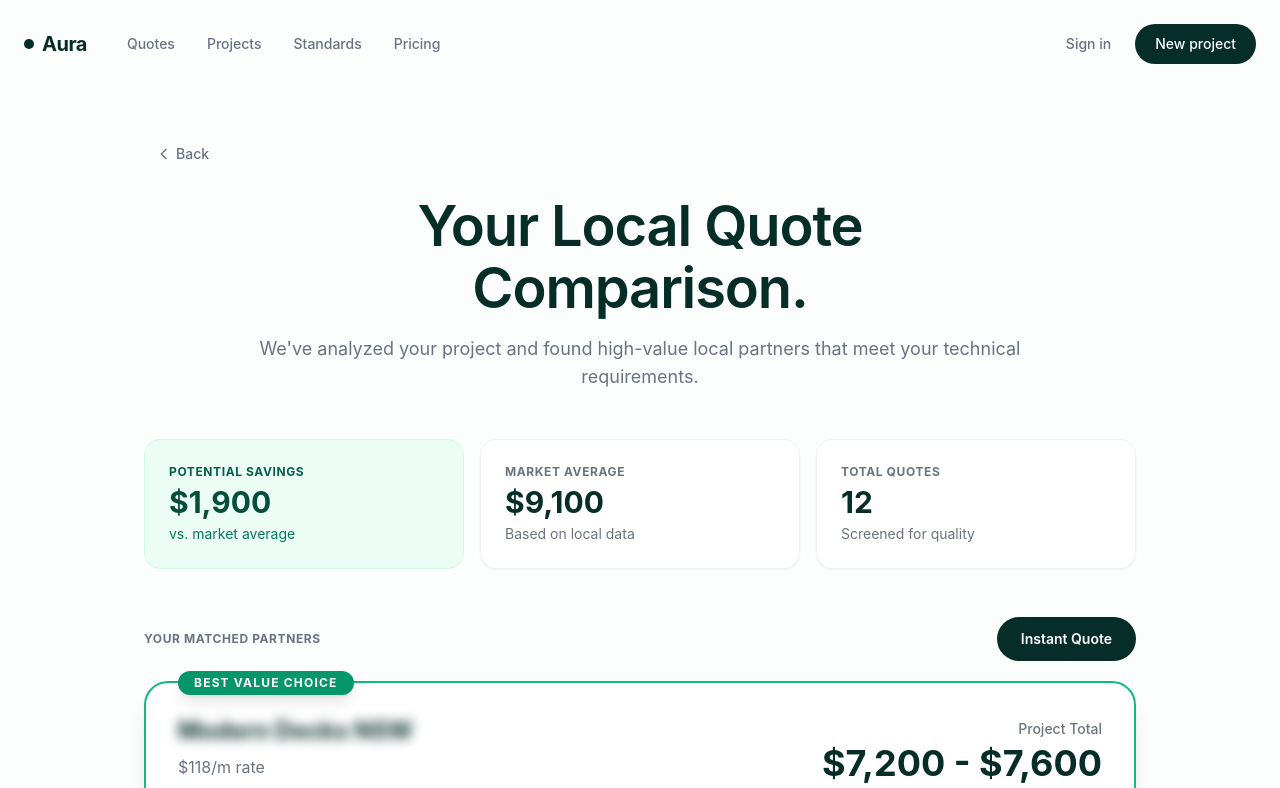
QuoteComparisonPage › opens the instant quote dialog with the names revealed, and cancelling returns to the page intact
Click the button "Instant Quote" at (1066, 639), box [997,617,1136,661]
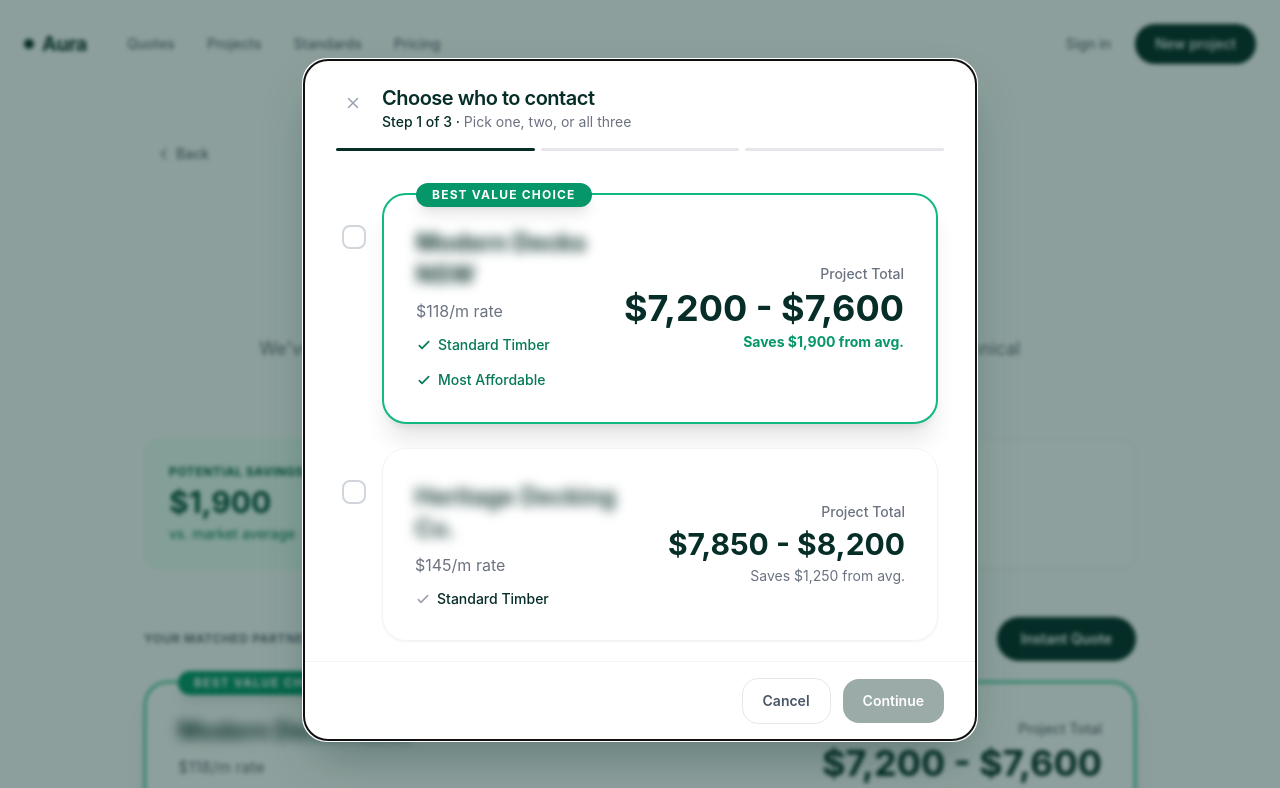
Expected: the text "Modern Decks NSW" is shown, [416,227,600,291]
Click the button "Cancel" at (786, 701), box [742,678,830,724]
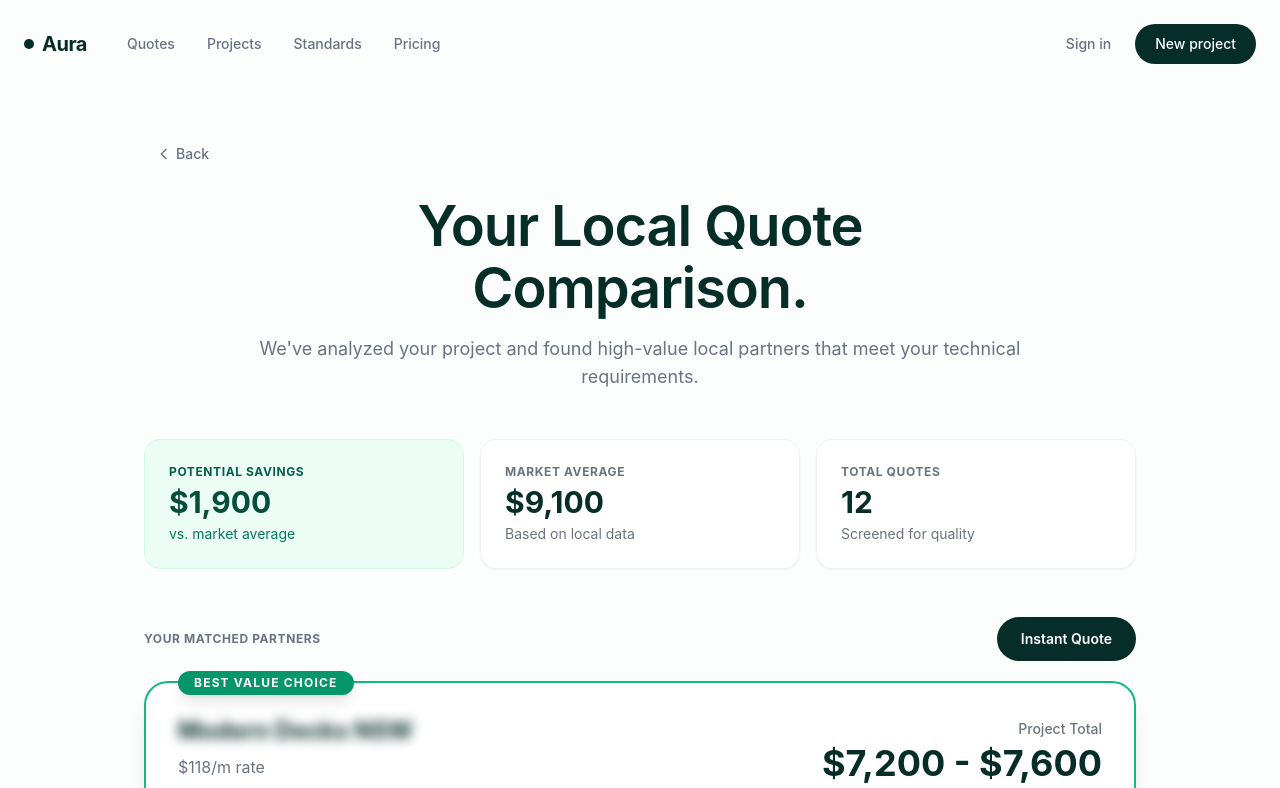
Expected: the heading "Your Local Quote Comparison." is shown, [418,192,863,322]
Expected: the dialog is gone
